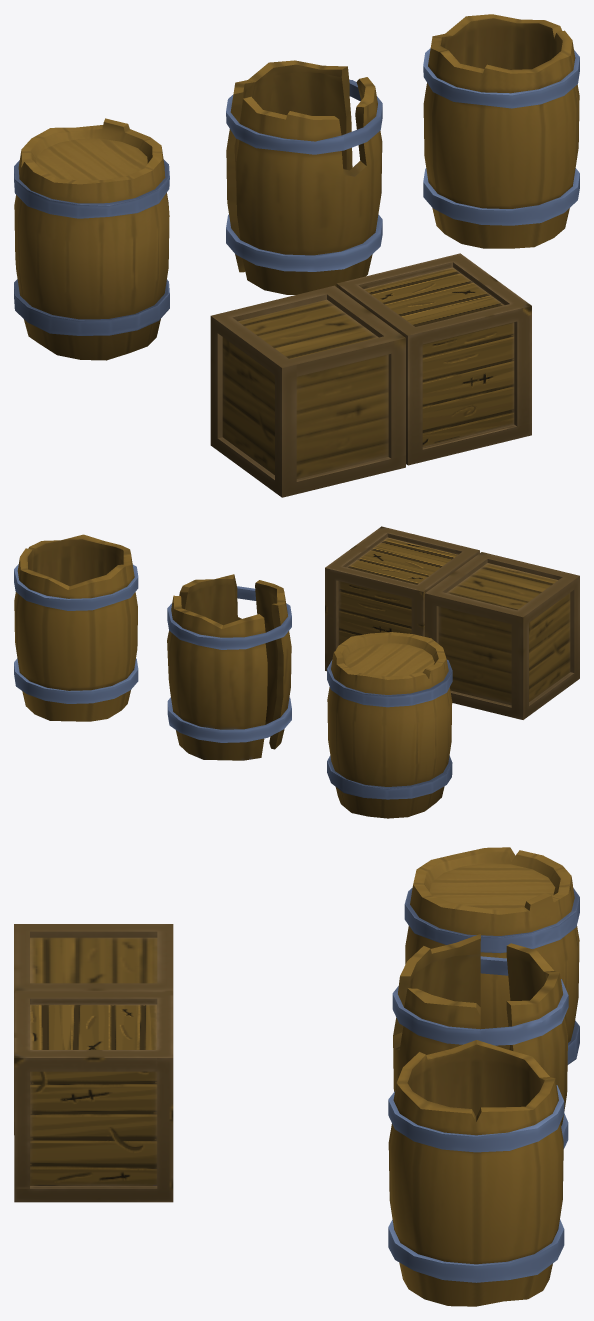
3 views of the same model, one above another, from view 1: azimuth 30°, elevation 25°; view 2: azimuth 150°, elevation 25°; view 3: azimuth 270°, elevation 25° (orthographic). The views are drawn at different scales.
Visible parts, largest first — view 1: Cube.009, Barrel1.002, Barrel2, Barrel3, Cube.008; view 2: Barrel1.002, Barrel2, Barrel3, Cube.009, Cube.008; view 3: Barrel2, Cube.008, Barrel1.002, Barrel3, Cube.009.
Boxes of the visible parts, x1,y1,x2,y2 form: Cube.009: [210, 285, 405, 497]; Barrel1.002: [14, 118, 169, 360]; Barrel2: [423, 14, 579, 248]; Barrel3: [226, 60, 382, 294]; Cube.008: [336, 253, 531, 465]; Barrel1.002: [327, 632, 452, 818]; Barrel2: [14, 534, 138, 721]; Barrel3: [167, 574, 291, 760]; Cube.009: [425, 552, 579, 719]; Cube.008: [325, 526, 479, 671]; Barrel2: [388, 1040, 564, 1306]; Cube.008: [14, 990, 173, 1202]; Barrel1.002: [404, 847, 579, 1064]; Barrel3: [392, 934, 568, 1148]; Cube.009: [14, 924, 173, 1134].
Bounding box in the file's own units: 870 × 315 × 711.
2 materials, 2 textured.
